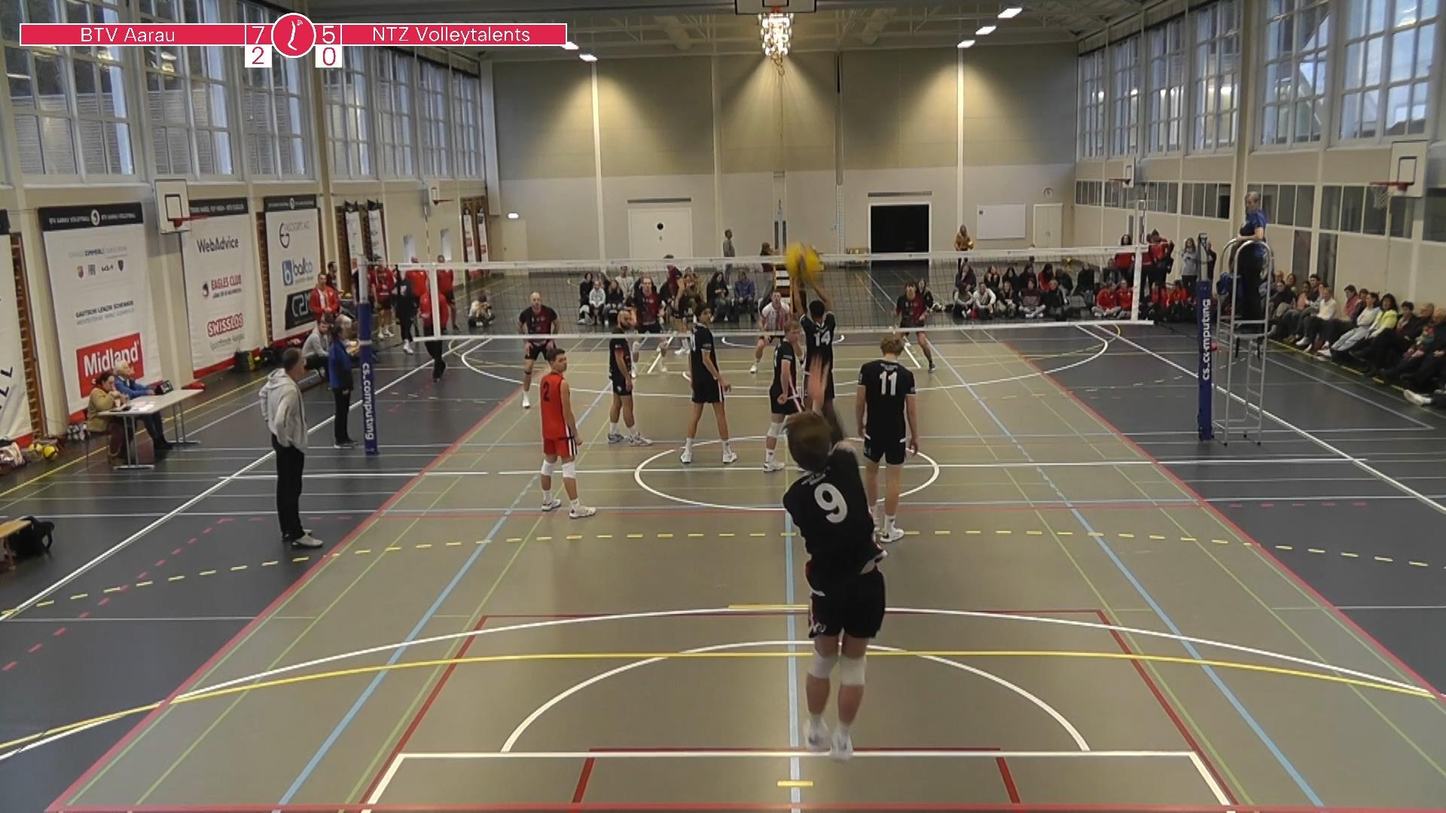battuta: (767, 411, 902, 784)
